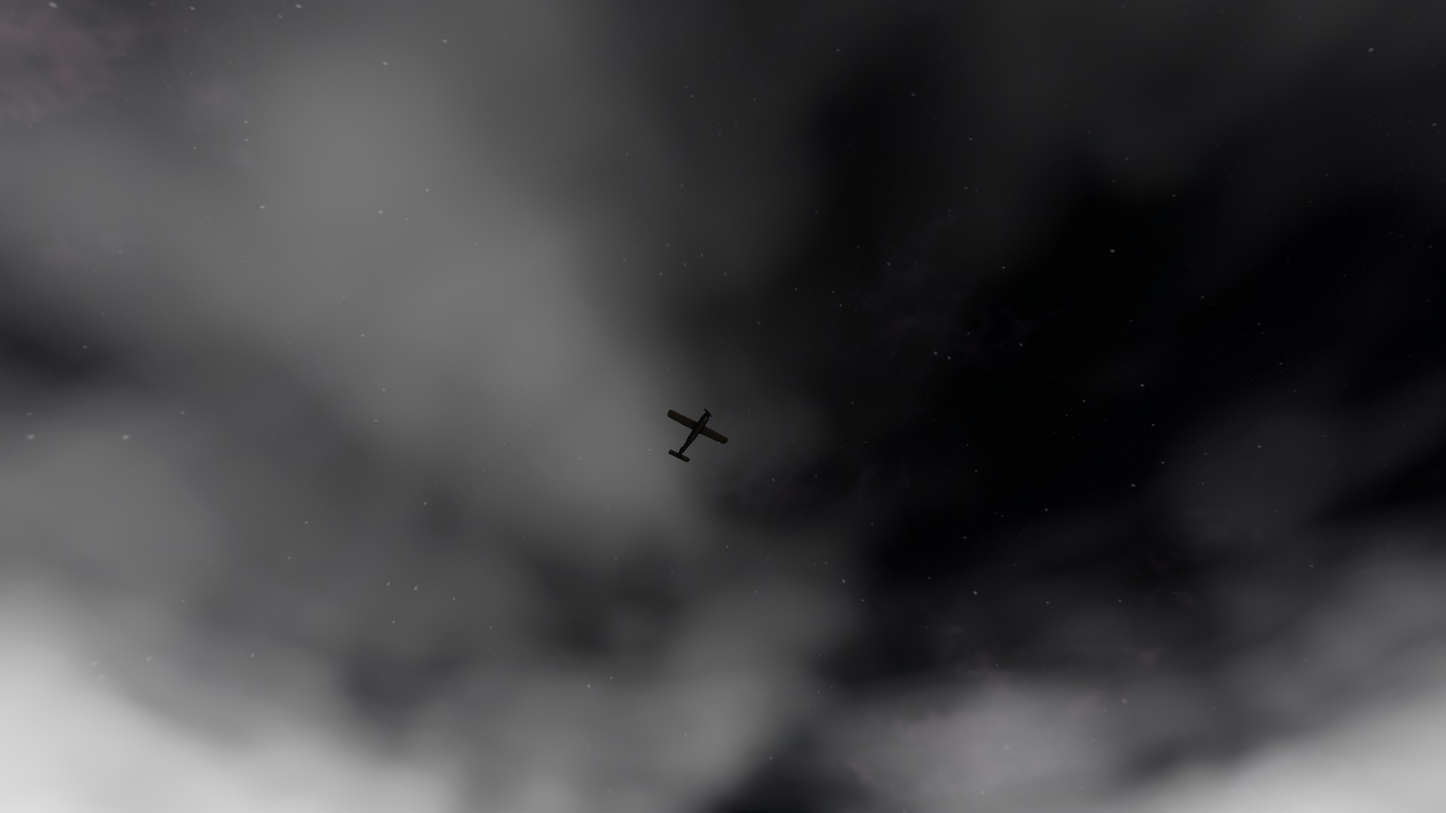drone_other: (667, 409, 728, 462)
